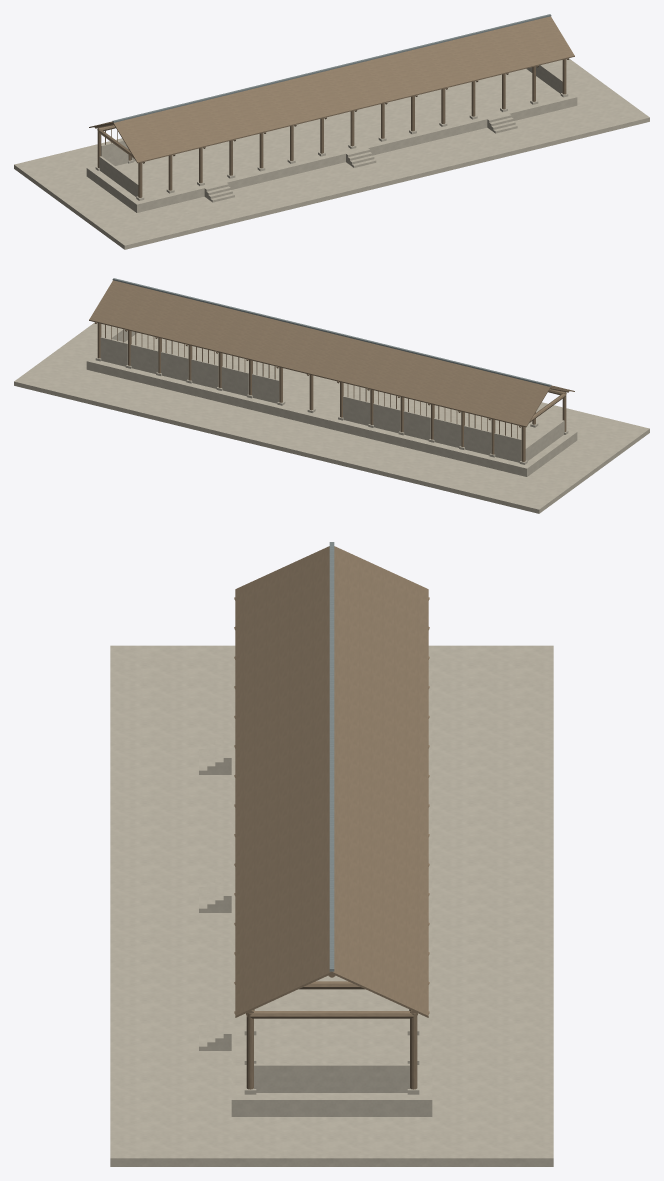
File: hall-B-LOD1.gltf
3 views of the same model, one above another, from view 1: azimuth 30°, elevation 25°; view 2: azimuth 150°, elevation 25°; view 3: azimuth 270°, elevation 25° (orthographic). The views are drawn at different scales.
Parts seen in each view (by area): view 1: B_presentation_ground, B_roof_board, B_platform, B_ridge_cap_C, B_gable_lowwall, B_rear_infill, B_gable_lowwall.001; view 2: B_presentation_ground, B_roof_board.001, B_platform, B_ridge_cap_C, B_rear_infill.010, B_rear_infill.002, B_rear_infill.004, B_rear_infill.003, B_rear_infill.005, B_rear_infill.006, B_rear_infill.009, B_rear_infill (+5 smaller); view 3: B_presentation_ground, B_roof_board, B_roof_board.001, B_platform, B_gable_lowwall.001, B_ridge_cap_C, B_cross_tie.014.
Part boxes in pixels (x1,y1,x2,y2): B_presentation_ground: (14,58,649,249); B_roof_board: (113,16,574,163); B_platform: (86,69,577,212); B_ridge_cap_C: (112,14,551,122); B_gable_lowwall: (99,156,138,196); B_rear_infill: (101,140,128,165); B_gable_lowwall.001: (526,65,562,93); B_presentation_ground: (14,322,649,513); B_roof_board.001: (89,280,550,427); B_platform: (86,333,577,476); B_ridge_cap_C: (112,278,551,386); B_rear_infill.010: (130,344,158,373); B_rear_infill.002: (433,418,461,447); B_rear_infill.004: (373,403,400,433); B_rear_infill.003: (403,410,430,440); B_rear_infill.005: (343,395,370,425); B_rear_infill.006: (252,373,279,403); B_rear_infill.009: (161,351,188,381); B_rear_infill: (494,432,521,462); B_presentation_ground: (110,645,553,1166); B_roof_board: (235,546,331,1017); B_roof_board.001: (332,546,428,1017); B_platform: (231,670,432,1116); B_gable_lowwall.001: (254,1063,409,1092); B_ridge_cap_C: (329,542,334,971); B_cross_tie.014: (250,1011,413,1018).
Size of the model in its own units: 52 by 7.33 by 19.
Materials: 3 (3 with a texture image).
